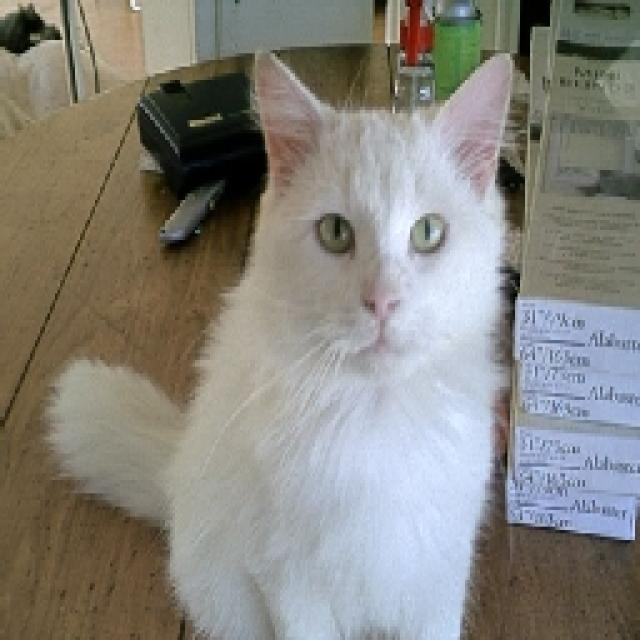Cats: (40, 43, 520, 637)
